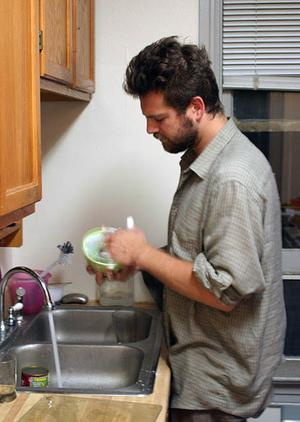person: (85, 35, 287, 422)
